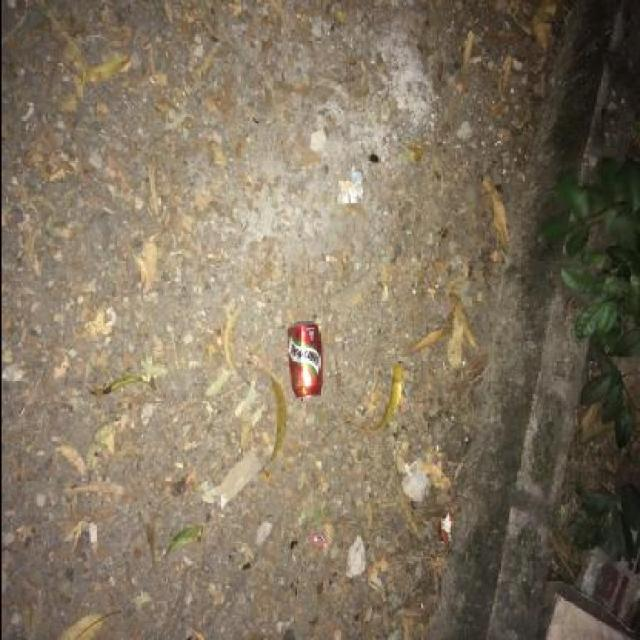metal: (285, 319, 321, 399)
